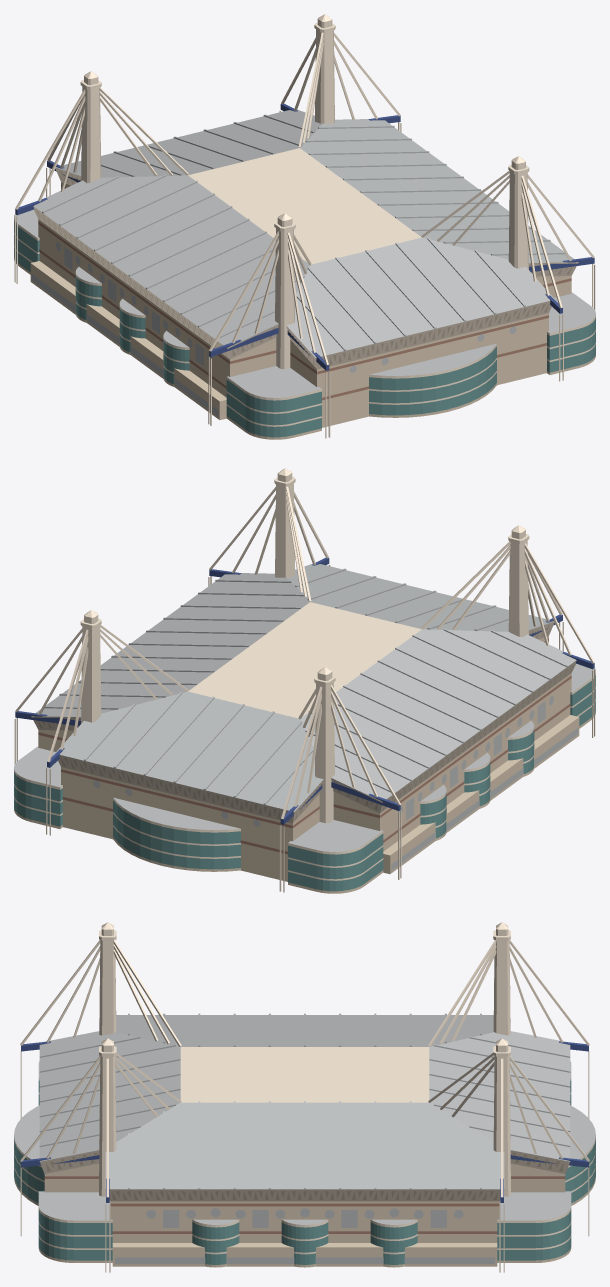
Rendered from sat-alamodome.glb.
3 views of the same model, one above another, from view 1: azimuth 30°, elevation 25°; view 2: azimuth 150°, elevation 25°; view 3: azimuth 270°, elevation 25° (orthographic).
Parts seen in each view (by area): view 1: Alamodome; view 2: Alamodome; view 3: Alamodome.
Boxes of the visible parts, x1,y1,x2,y2 form: Alamodome: (14,14,595,439); Alamodome: (14,468,595,893); Alamodome: (14,922,595,1272).
Size of the model in its own units: 193 by 92.6 by 248.
